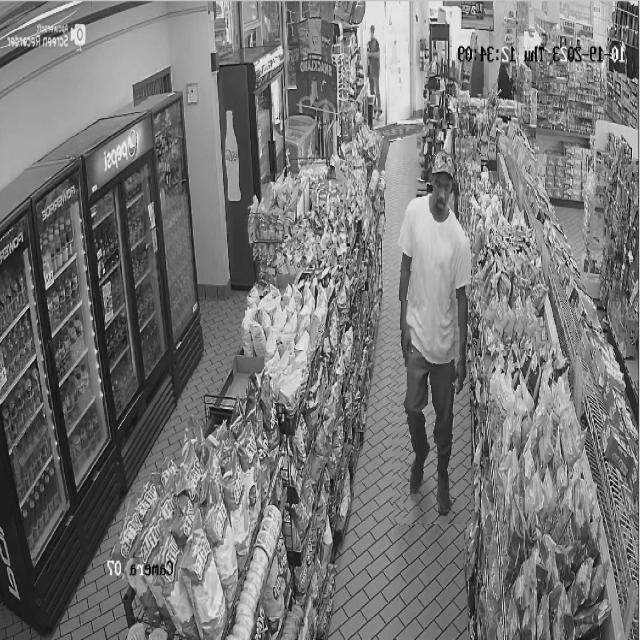Normal: (387, 129, 471, 524)
